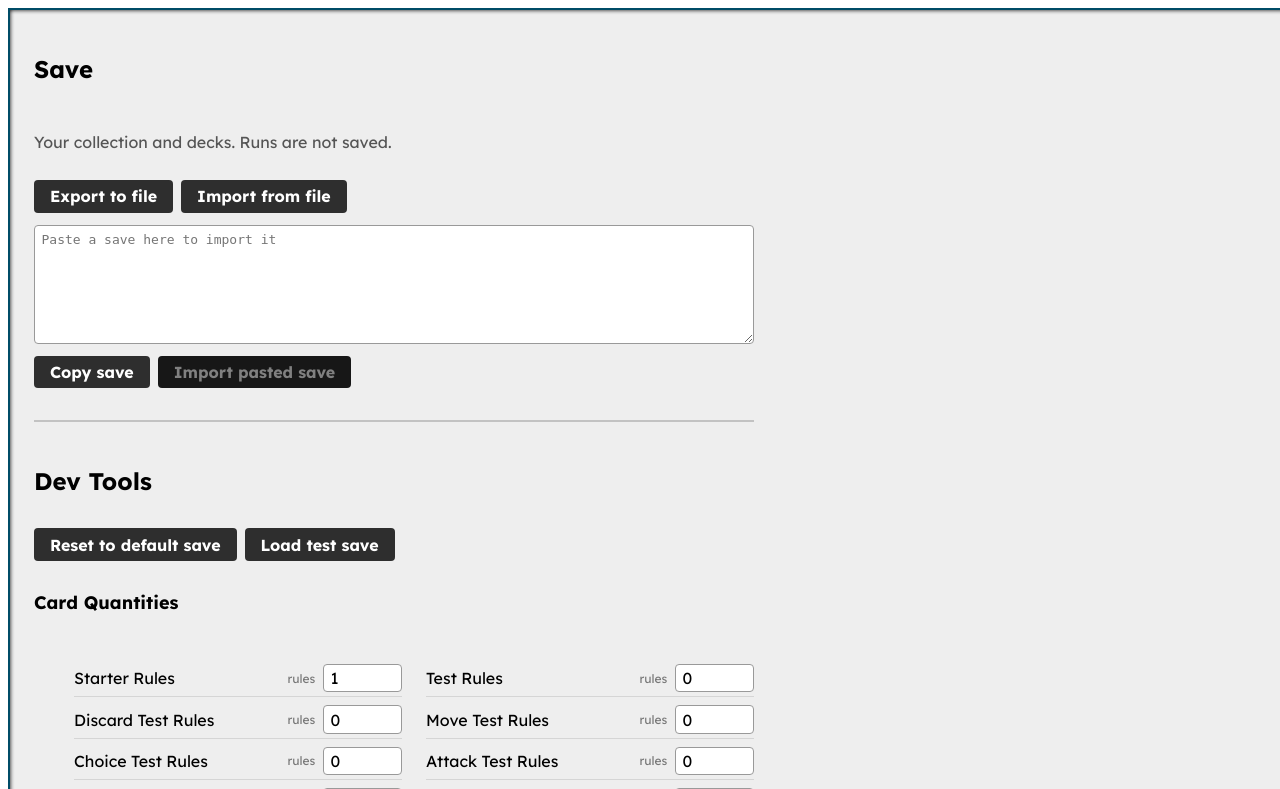
Test: SettingsView › shows an error for an invalid pasted save
Type "not a save" into the text box with placeholder "Paste a save here to import it".
click(394, 284); type("not a save")  # box [34, 225, 754, 344]
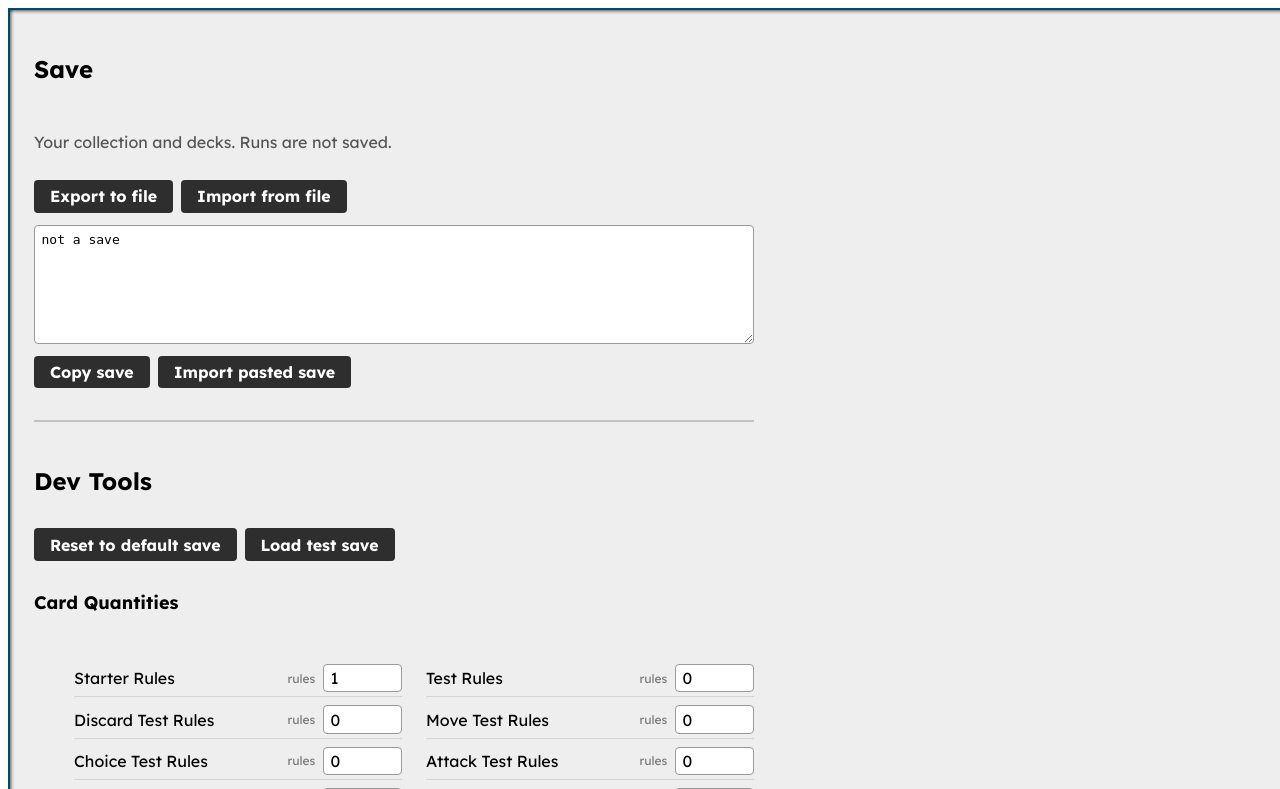
Click the button "Import pasted save".
click(254, 372)  # box [158, 356, 351, 388]
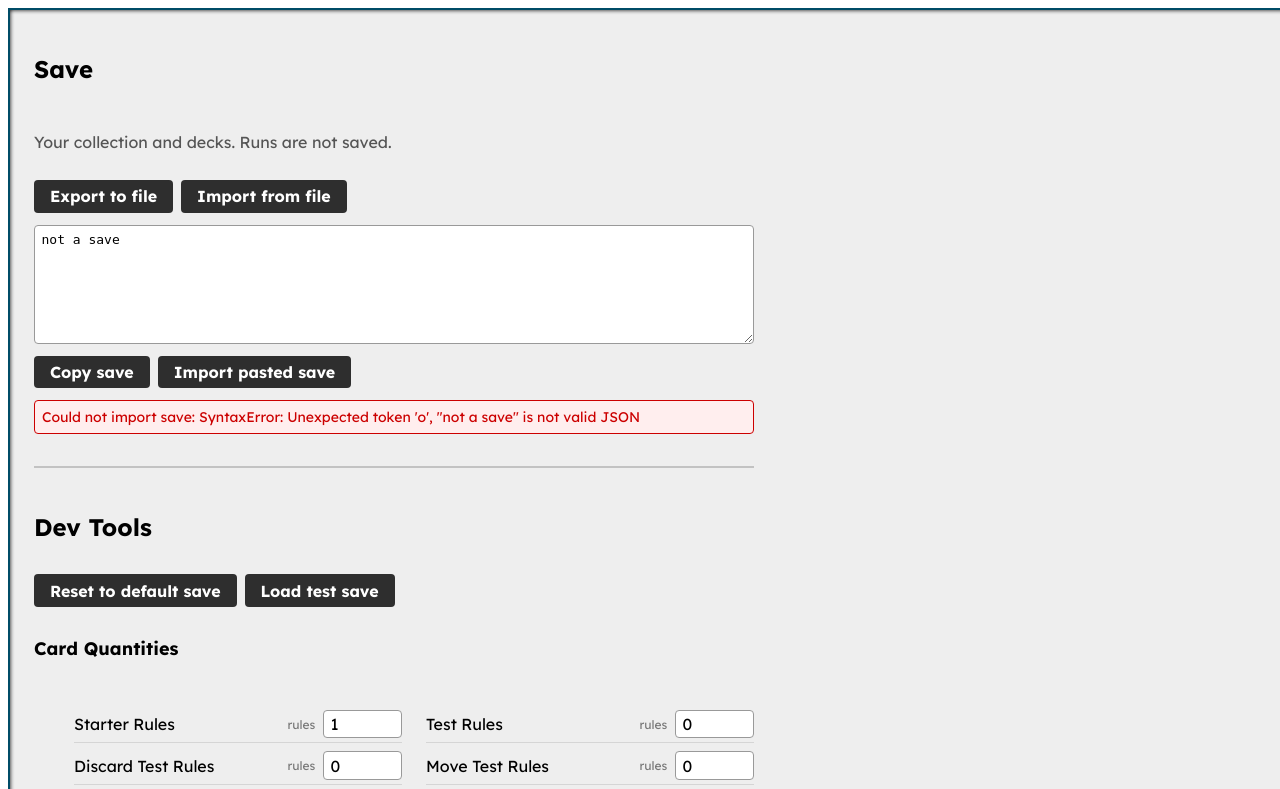
Expected: the text with class "error" is shown, [34, 400, 754, 434]
